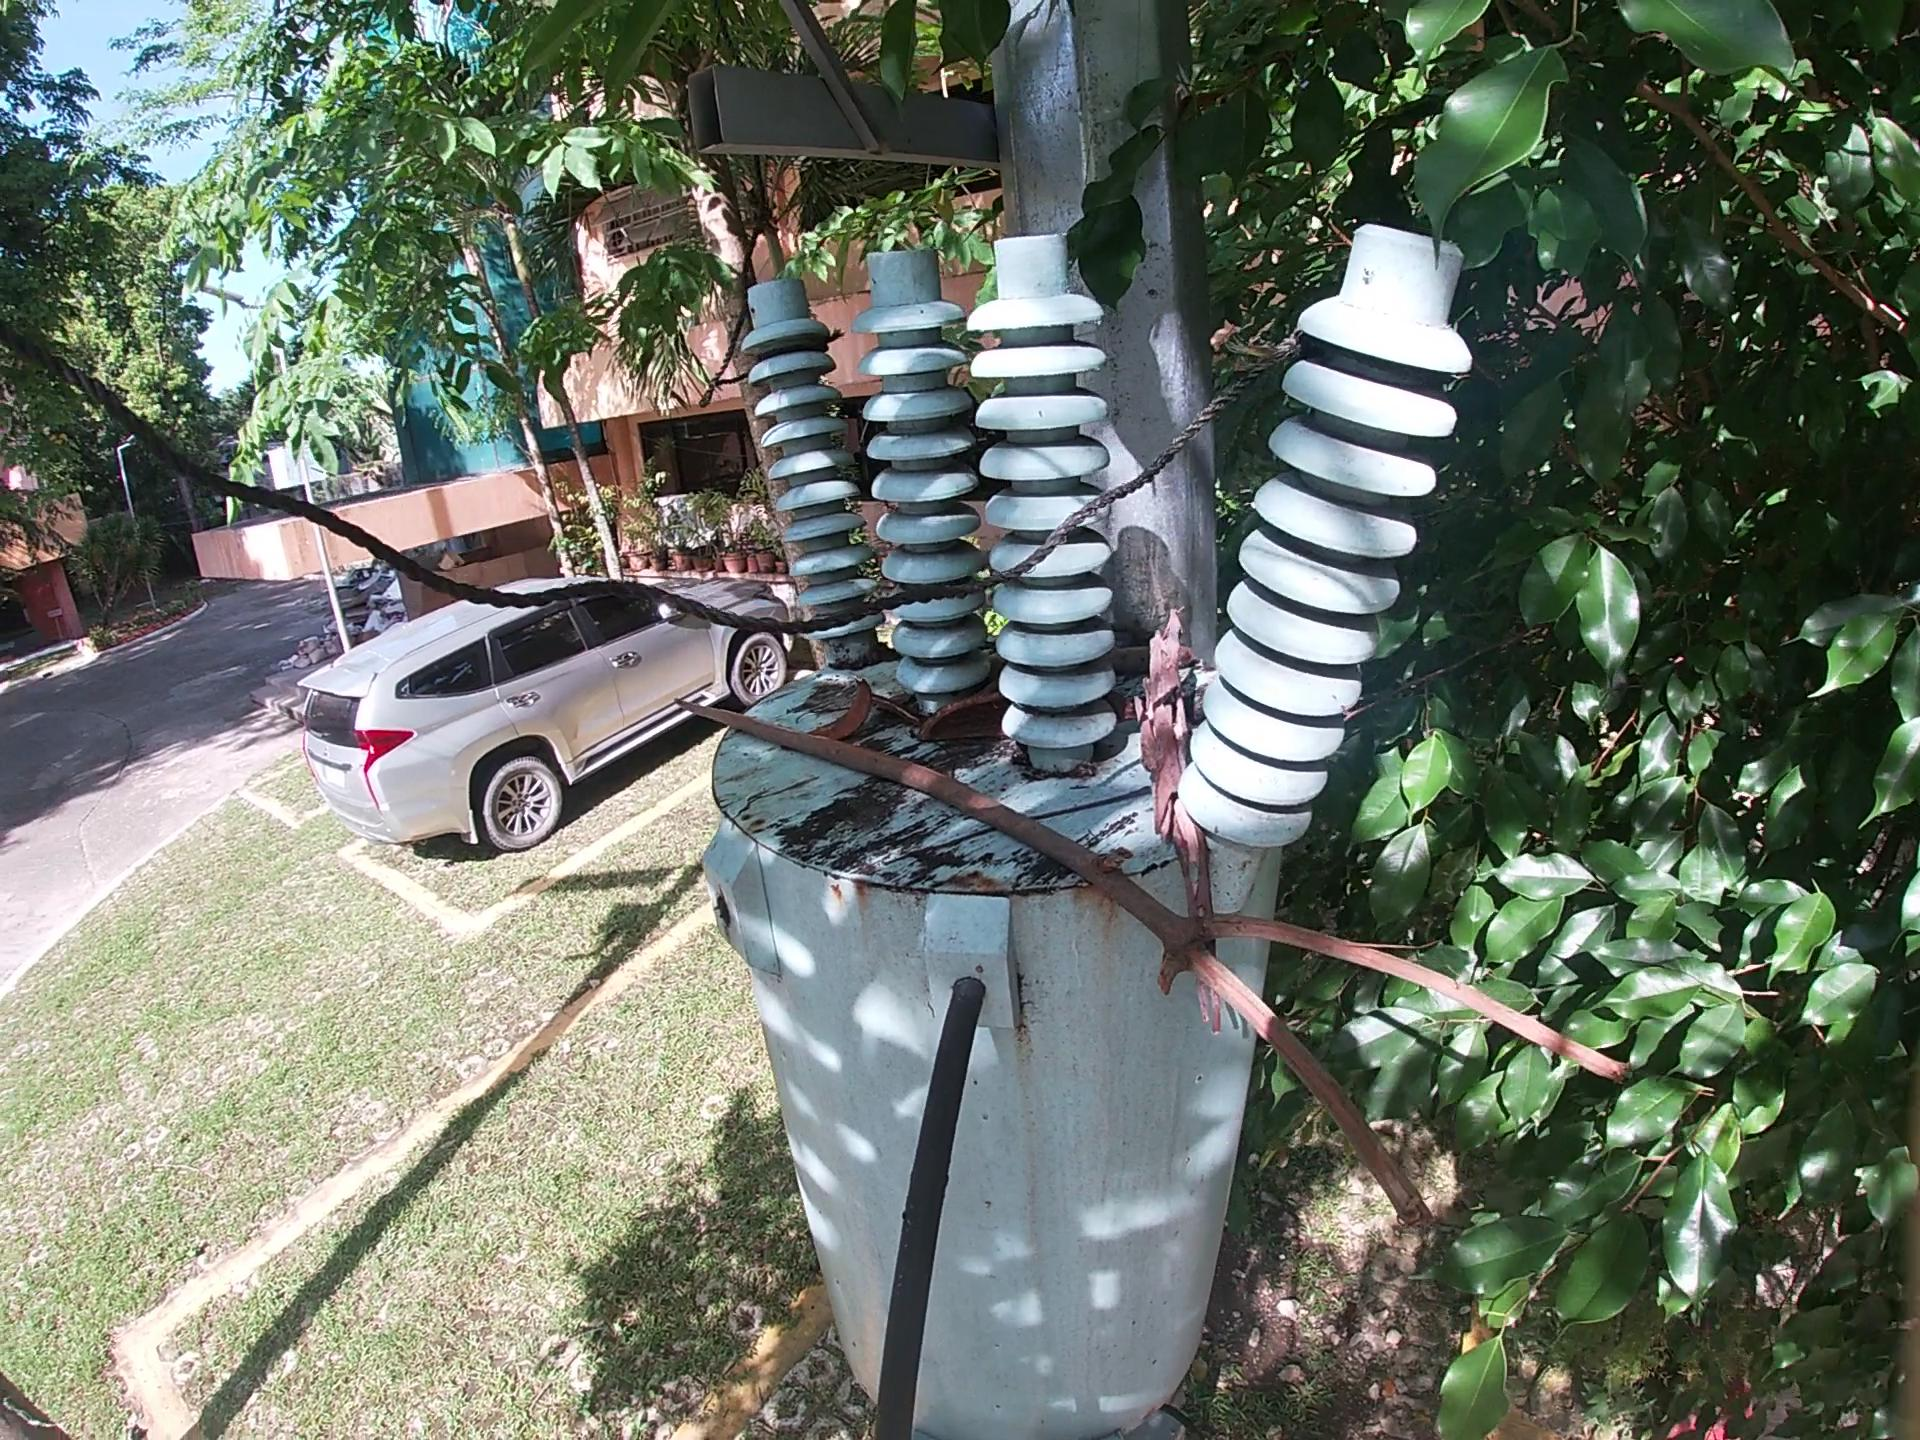mahogany fruit: (912, 696, 1005, 758), (792, 678, 878, 743), (1107, 691, 1135, 729)
tree branch: (671, 696, 1637, 1266), (1132, 588, 1235, 1001), (922, 785, 1144, 870), (1101, 638, 1197, 682), (872, 679, 922, 732), (974, 670, 1005, 693)
